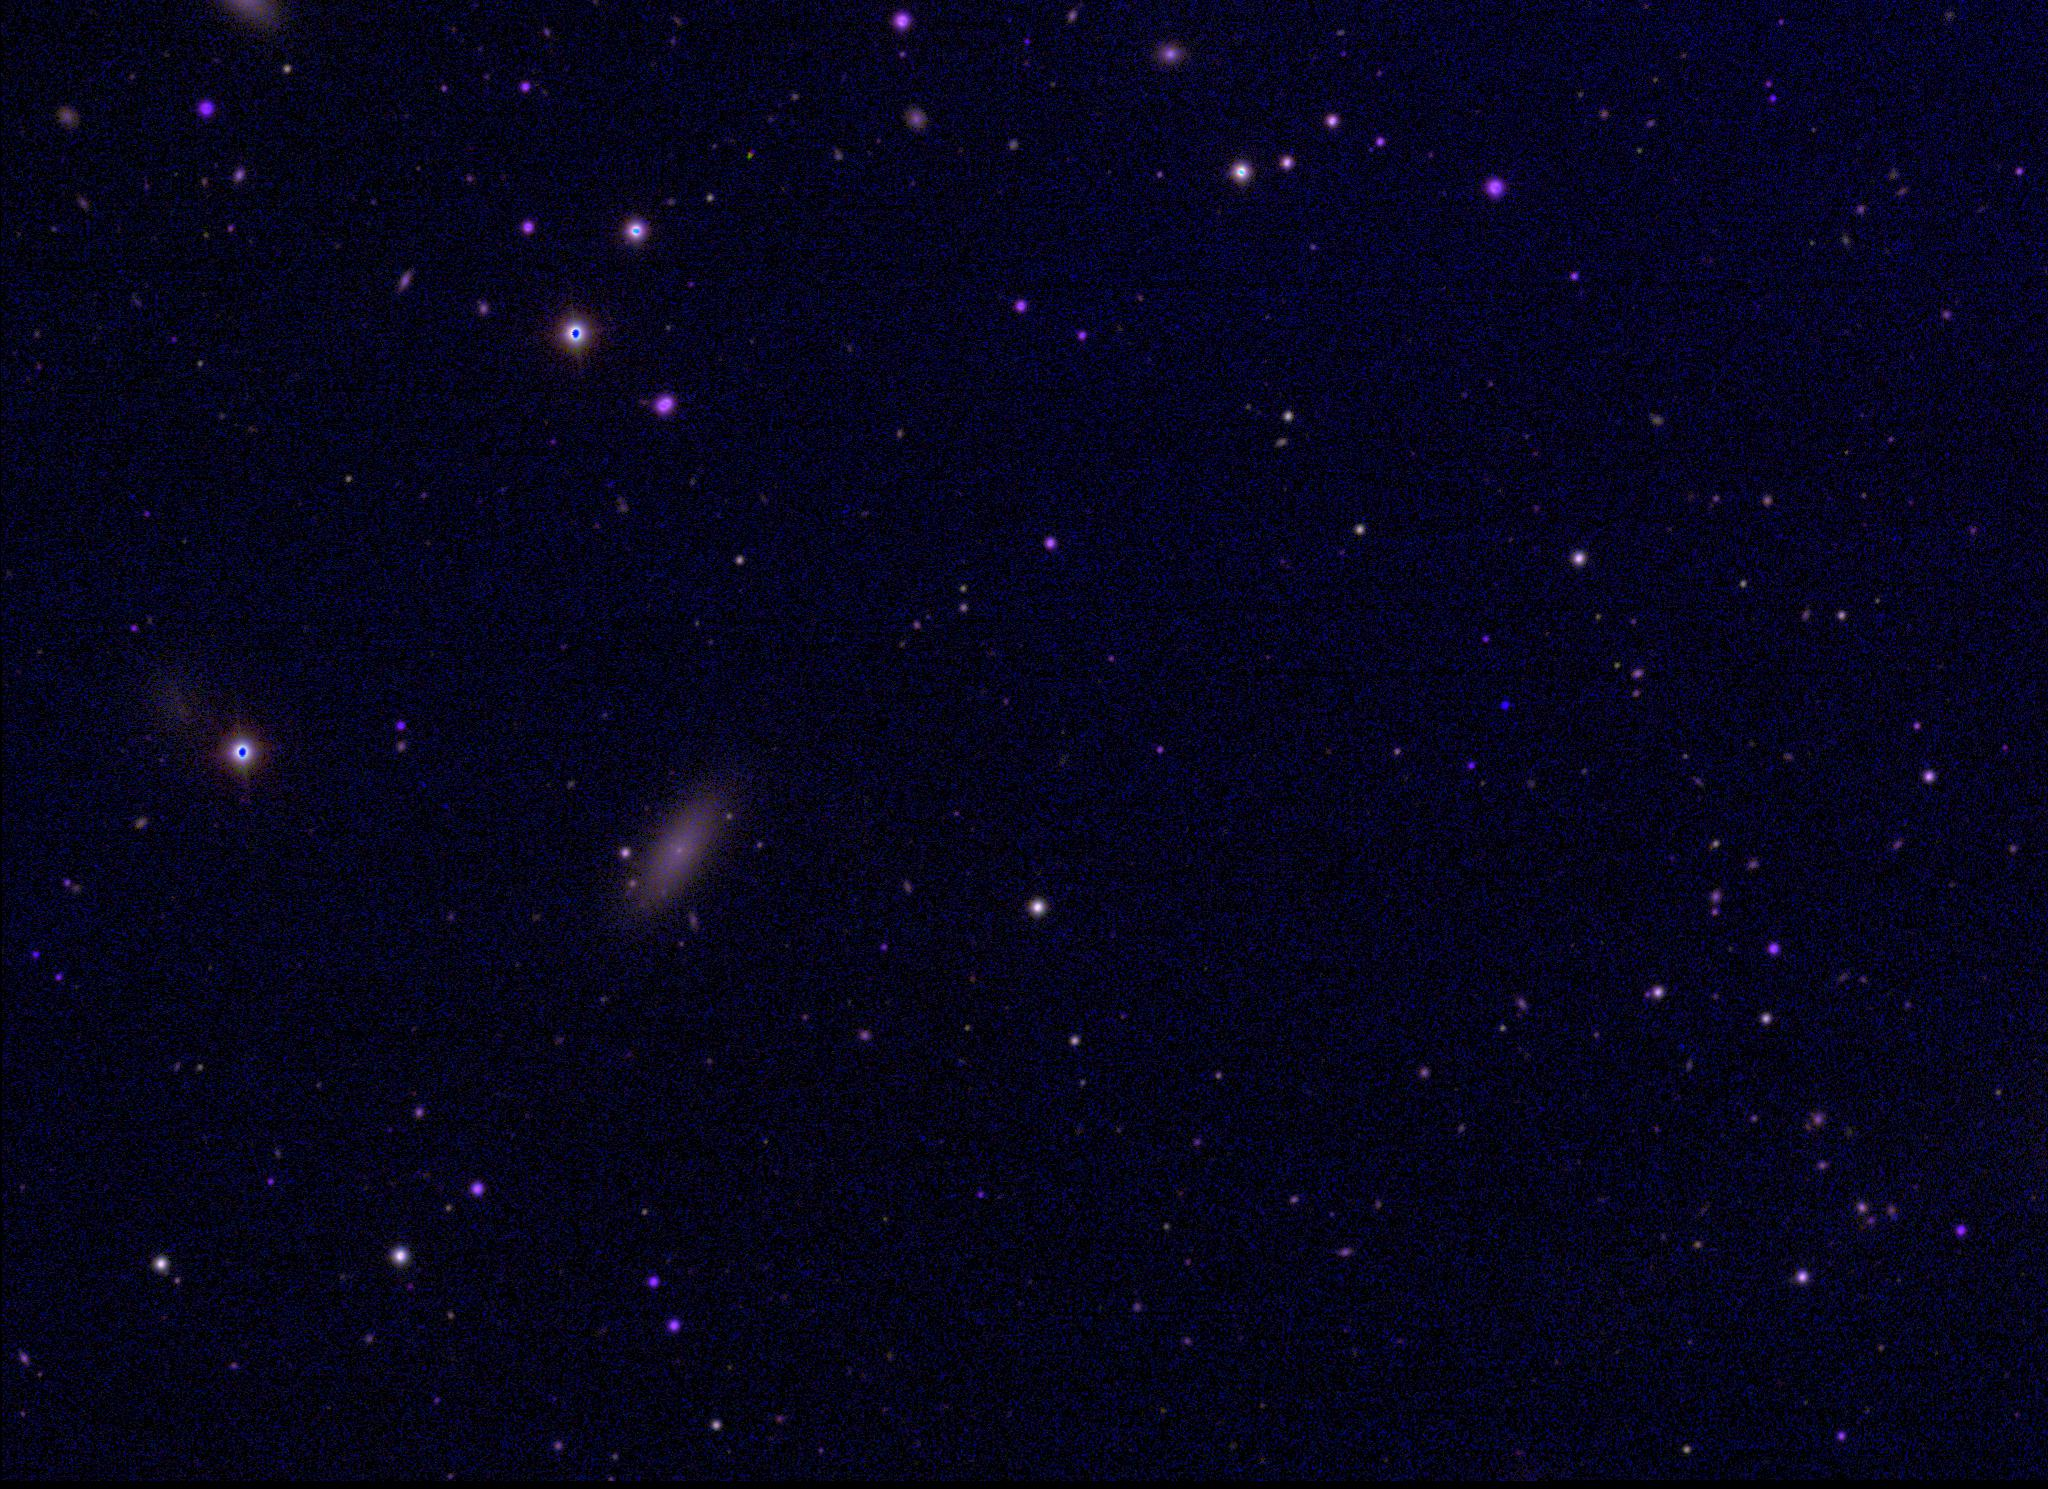L: (1496, 698, 1511, 713)
